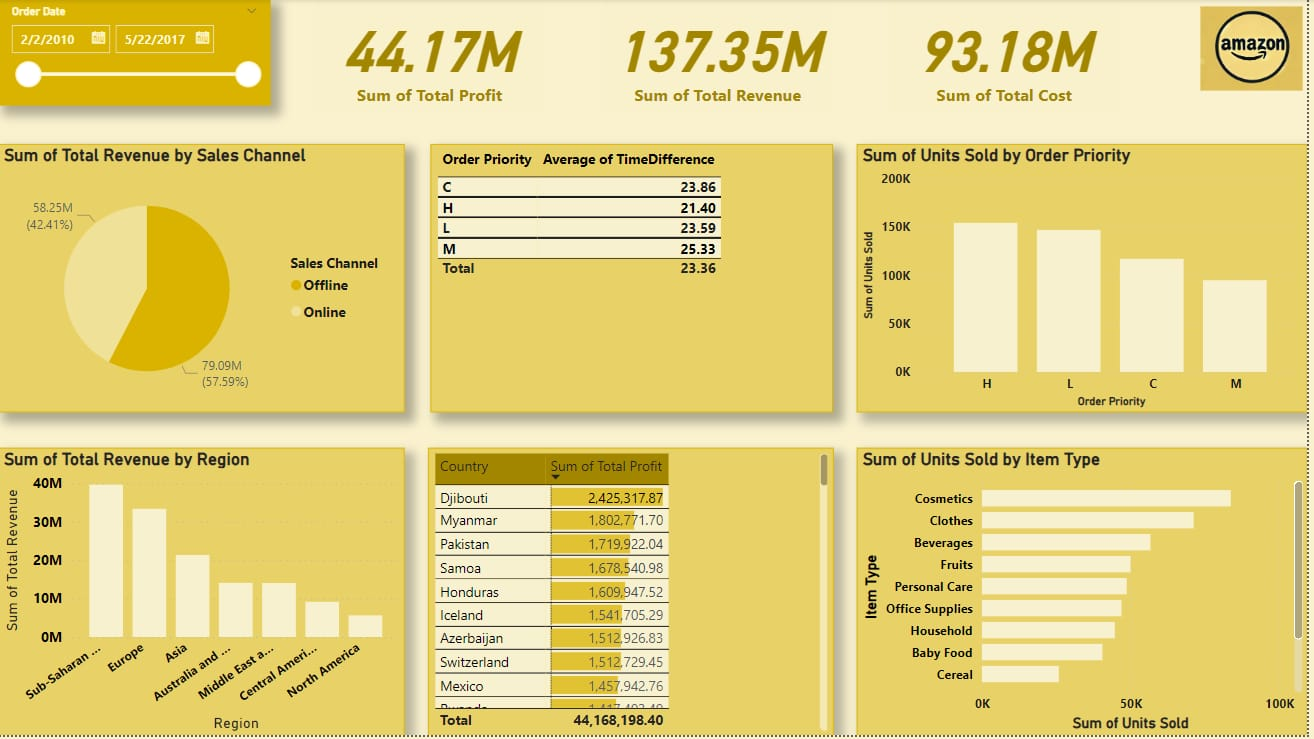

Layout of this report page (visuals, bound fields, positions):
{"tool":"powerbi","page":{"name":"Page 1","canvas":[1280,720],"ordinal":0},"visuals":[{"type":"card","fields":{"Values":["Sum(AmazonSalesData.Total Profit)"]},"box":[310.1,0,223.7,111.1],"z":0},{"type":"card","fields":{"Values":["Sum(AmazonSalesData.Total Cost)"]},"box":[870,0,227.8,111.1],"z":1000},{"type":"clusteredColumnChart","fields":{"Category":["AmazonSalesData.Region"],"Y":["Sum(AmazonSalesData.Total Revenue)"]},"box":[0,439.1,397.9,281.3],"z":2000},{"type":"tableEx","fields":{"Values":["AmazonSalesData.Country","Sum(AmazonSalesData.Total Profit)"]},"box":[419.9,439.1,396.6,281.3],"z":3000},{"type":"barChart","fields":{"Category":["AmazonSalesData.Item Type"],"Y":["Sum(AmazonSalesData.Units Sold)"]},"box":[839.8,439.1,440.5,281.3],"z":4000},{"type":"pieChart","fields":{"Category":["AmazonSalesData.Sales Channel"],"Y":["Sum(AmazonSalesData.Total Revenue)"]},"box":[0,141.3,397.9,262.1],"z":5000},{"type":"tableEx","fields":{"Values":["AmazonSalesData.Order Priority","Avg(AmazonSalesData.TimeDifference)"]},"box":[422.6,141.3,393.8,262.1],"z":6000},{"type":"clusteredColumnChart","fields":{"Category":["AmazonSalesData.Order Priority"],"Y":["Sum(AmazonSalesData.Units Sold)"]},"box":[839.8,141.3,440.5,262.1],"z":7000},{"type":"card","fields":{"Values":["Sum(AmazonSalesData.Total Revenue)"]},"box":[591.4,0,225,111.1],"z":8000},{"type":"image","box":[1170.5,0,109.8,96.1],"z":9000},{"type":"slicer","fields":{"Values":["AmazonSalesData.Order Date"]},"box":[0,0,266.2,104.3],"z":10000}]}

Visuals, with their boxes in screenshot pixels (x1, y1, x2, y2), scaled from the page's 1280x720 canvas onto the 1314x739 screenshot:
card - Sum(AmazonSalesData.Total Profit): {"x1": 318, "y1": 0, "x2": 548, "y2": 114}
card - Sum(AmazonSalesData.Total Cost): {"x1": 893, "y1": 0, "x2": 1127, "y2": 114}
clusteredColumnChart - AmazonSalesData.Region x Sum(AmazonSalesData.Total Revenue): {"x1": 0, "y1": 451, "x2": 408, "y2": 738}
tableEx - AmazonSalesData.Country x Sum(AmazonSalesData.Total Profit): {"x1": 431, "y1": 451, "x2": 838, "y2": 738}
barChart - AmazonSalesData.Item Type x Sum(AmazonSalesData.Units Sold): {"x1": 862, "y1": 451, "x2": 1313, "y2": 738}
pieChart - AmazonSalesData.Sales Channel x Sum(AmazonSalesData.Total Revenue): {"x1": 0, "y1": 145, "x2": 408, "y2": 414}
tableEx - AmazonSalesData.Order Priority x Avg(AmazonSalesData.TimeDifference): {"x1": 434, "y1": 145, "x2": 838, "y2": 414}
clusteredColumnChart - AmazonSalesData.Order Priority x Sum(AmazonSalesData.Units Sold): {"x1": 862, "y1": 145, "x2": 1313, "y2": 414}
card - Sum(AmazonSalesData.Total Revenue): {"x1": 607, "y1": 0, "x2": 838, "y2": 114}
image: {"x1": 1202, "y1": 0, "x2": 1313, "y2": 99}
slicer - AmazonSalesData.Order Date: {"x1": 0, "y1": 0, "x2": 273, "y2": 107}
